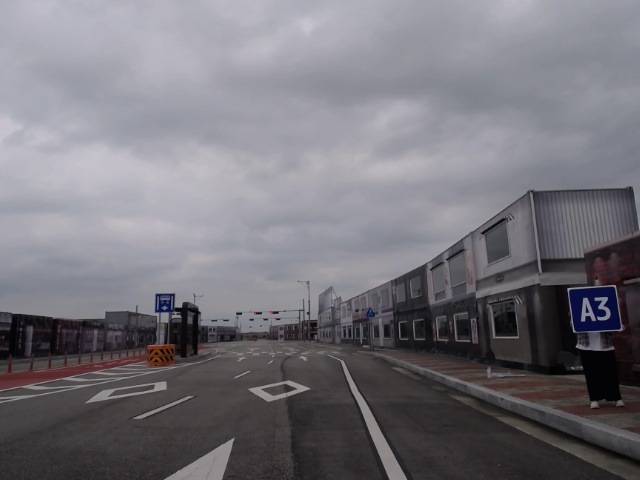delivery_a3: (568, 285, 622, 333)
